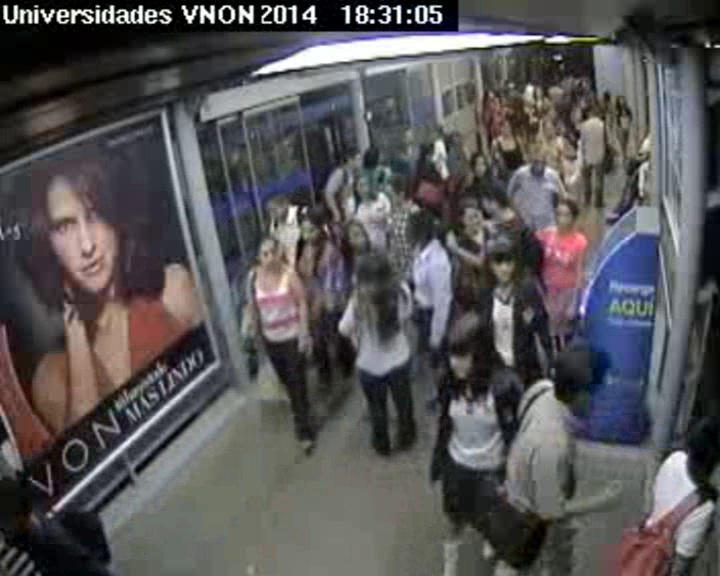person: (442, 310, 503, 383), (554, 347, 601, 406), (1, 478, 44, 536), (678, 418, 720, 477), (484, 238, 527, 286), (356, 253, 394, 293), (251, 234, 284, 272), (404, 207, 435, 246), (295, 206, 327, 242), (551, 197, 581, 233), (478, 181, 509, 215), (341, 219, 372, 251), (263, 192, 292, 223), (457, 204, 483, 234), (386, 176, 412, 204), (419, 168, 441, 194), (354, 174, 377, 198), (528, 150, 549, 176), (469, 153, 491, 176), (342, 146, 361, 171), (362, 146, 382, 168), (431, 137, 448, 156), (541, 119, 558, 136), (448, 134, 465, 151), (499, 121, 514, 138), (400, 127, 415, 143), (579, 76, 594, 90), (614, 93, 628, 108), (601, 90, 615, 105), (510, 99, 524, 114), (582, 105, 596, 118), (485, 89, 498, 103), (534, 85, 546, 100), (505, 78, 517, 92), (534, 100, 545, 112), (525, 82, 535, 95), (562, 70, 573, 81), (550, 76, 560, 87)
